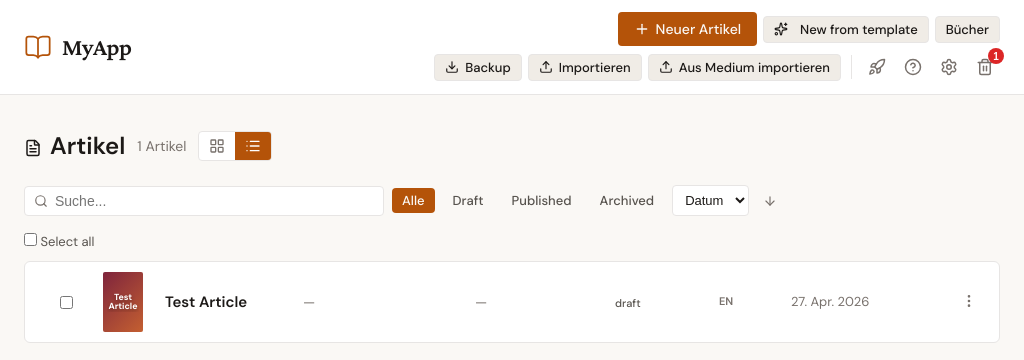
Test: ArticleList › trash view back-button returns to live list
Step 1. Click the button with test id "article-list-trash-toggle" → (985, 67), box left=970, top=52, right=1000, bottom=82
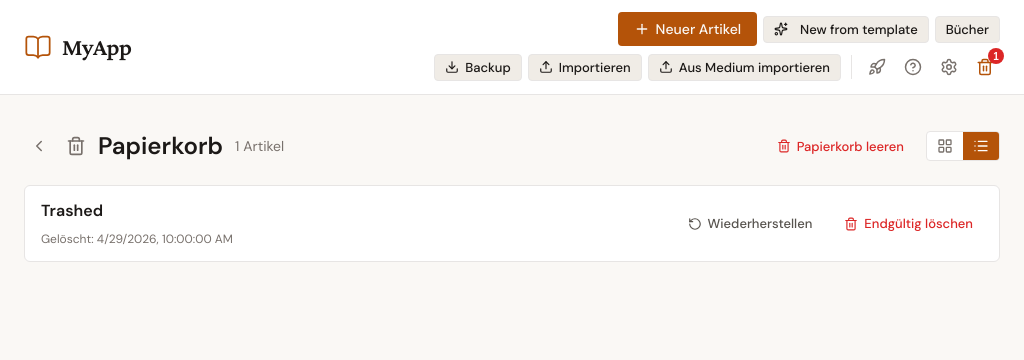
Check: the element with test id "article-trash-panel" is shown, box left=24, top=127, right=1000, bottom=262
Step 2. Click the button with test id "article-trash-back" → (39, 146), box left=24, top=131, right=54, bottom=161
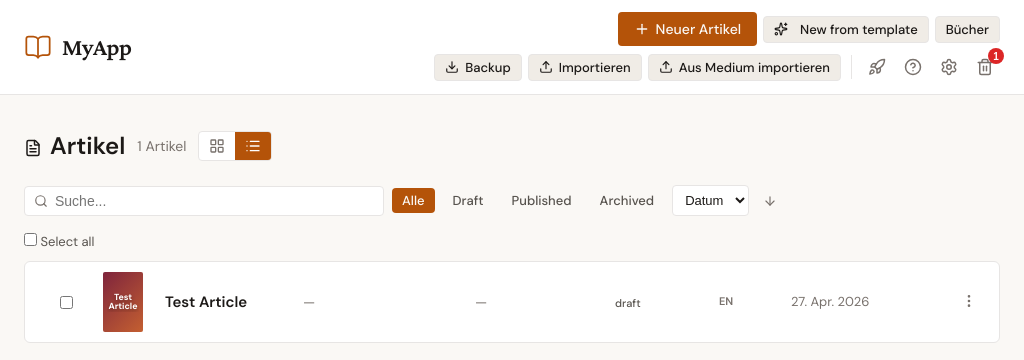
Check: the element with test id "article-trash-panel" is gone
Check: the list item with test id "article-list-row-live-back-1" is shown, box left=24, top=261, right=1000, bottom=343
